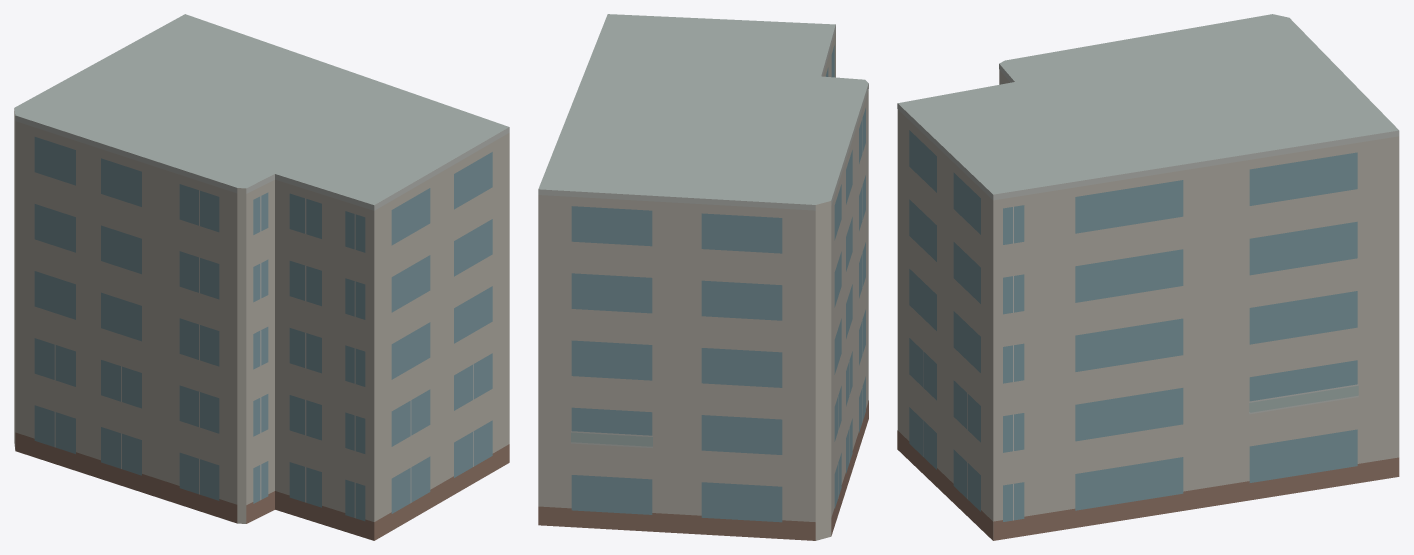
The model's file is survey-upis-32811390.glb.
3 renders of one model, left to right at view 1: azimuth 30°, elevation 25°; view 2: azimuth 150°, elevation 25°; view 3: azimuth 270°, elevation 25°, orthographic. The views are drawn at different scales.
Visible parts, largest first — view 1: survey-upis-32811390.tmp; view 2: survey-upis-32811390.tmp; view 3: survey-upis-32811390.tmp.
Part boxes in pixels (bbox=[...]): survey-upis-32811390.tmp: bbox=[14, 14, 509, 540]; survey-upis-32811390.tmp: bbox=[538, 14, 868, 540]; survey-upis-32811390.tmp: bbox=[897, 14, 1399, 540].
Size of the model in its own units: 16.4 by 14.65 by 19.25.
